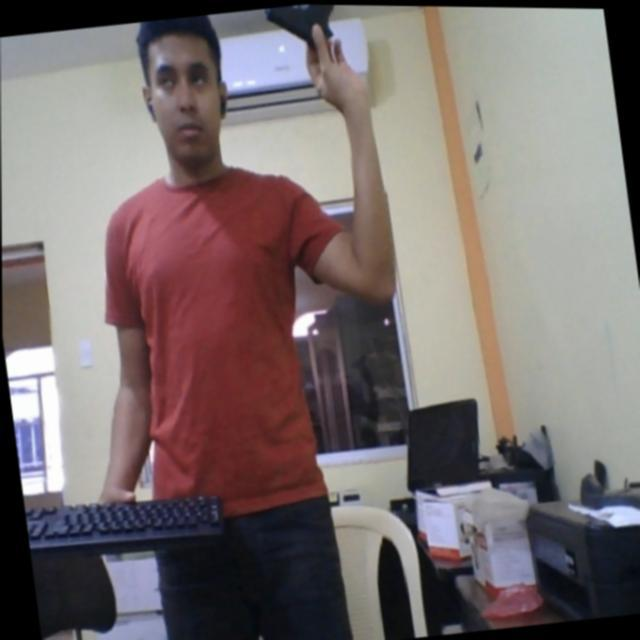weapon: (261, 3, 346, 64)
